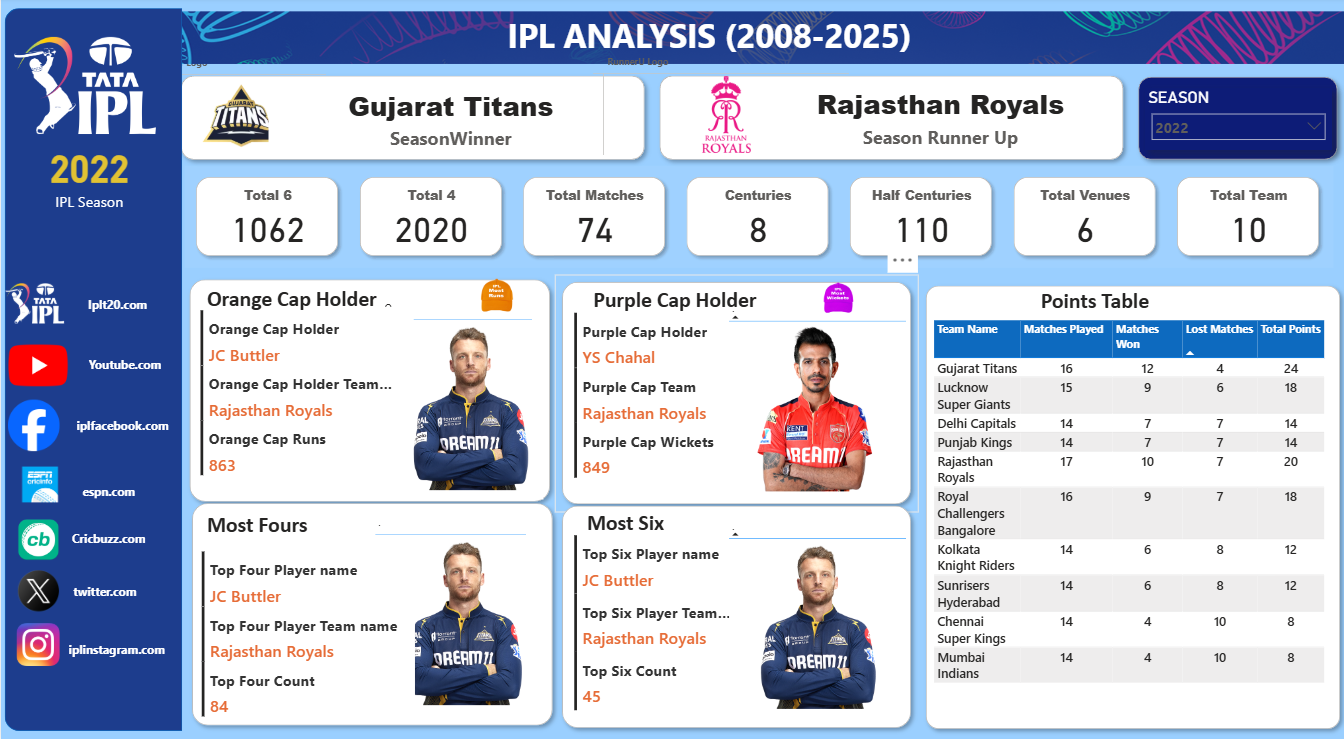

This screenshot's page, from the dashboard's own definition file:
{"tool":"powerbi","page":{"name":"Page 1","canvas":[2000,1100],"ordinal":0},"visuals":[{"type":"shape","box":[1666,107.2,315.2,143.7],"z":0},{"type":"shape","box":[1352.9,413.8,632.5,675.4],"z":1000},{"type":"shape","box":[268,405.2,553.2,349.5],"z":2000},{"type":"tableEx","fields":{"Values":["ipl_matches_data.Orange Cap Image"]},"box":[555.3,441.7,244.4,298],"z":3000},{"type":"shape","box":[255.1,105.1,705.4,145.8],"z":4000},{"type":"tableEx","fields":{"Values":["ipl_matches_data.Season winner Logo"]},"box":[167.2,83.6,325.9,167.2],"z":5000},{"type":"image","box":[233.7,15,1751.7,90.1],"z":6000},{"type":"shape","box":[6.4,17.2,261.6,1065.6],"z":7000},{"type":"textbox","box":[679.7,19.3,729,75],"z":8000},{"type":"slicer","title":"SEASON","fields":{"Values":["ipl_matches_data.season"]},"box":[1687.4,135.1,276.6,90.1],"z":9000},{"type":"card","fields":{"Values":["ipl_matches_data.SeasonWinner"]},"box":[394.5,122.2,538.2,111.5],"z":10000},{"type":"shape","box":[960.6,105.1,705.4,145.8],"z":11000},{"type":"pivotTable","fields":{"Values":["ipl_matches_data.RunnerU Logo"]},"box":[868.4,81.5,461,186.5],"z":12000},{"type":"card","fields":{"Values":["ipl_matches_data.Season Runner Up"]},"box":[1134.2,120.1,503.9,111.5],"z":13000},{"type":"cardVisual","fields":{"Data":["ipl_matches_data.Total 6","ipl_matches_data.Total 4","ipl_matches_data.Total Matches","ipl_matches_data.Centuries","ipl_matches_data.Half Centuries","ipl_matches_data.Total Venues","ipl_matches_data.Total Team"]},"box":[270.2,248.7,1693.8,150.1],"z":14000},{"type":"cardVisual","fields":{"Data":["ipl_matches_data.Orange Cap Holder","ipl_matches_data.Orange Cap Holder Team Name","ipl_matches_data.Orange Cap Runs"]},"box":[289.5,456.7,319.5,253],"z":15000},{"type":"textbox","box":[298,420.2,390.2,62.2],"z":16000},{"type":"image","box":[641.1,409.5,180.1,62.2],"z":19000},{"type":"textbox","box":[960.6,420.2,263.7,51.5],"z":20000},{"type":"shape","box":[270.2,735.4,553.2,349.5],"z":21000},{"type":"tableEx","fields":{"Values":["ipl_matches_data.Top Four Player Image"]},"box":[546.5,758.7,244.4,306.6],"z":22000},{"type":"cardVisual","fields":{"Data":["ipl_matches_data.Top Four Player name","ipl_matches_data.Top Four Player Team name","ipl_matches_data.Top Four Count"]},"box":[291.6,812.6,319.5,253],"z":23000},{"type":"shape","box":[816.9,409.5,536,349.5],"z":24000},{"type":"cardVisual","fields":{"Data":["ipl_matches_data.Purple Cap Holder","ipl_matches_data.Purple Cap Team","ipl_matches_data.Purple Cap Wickets"]},"box":[840.5,461,293.7,253],"z":25000},{"type":"textbox","box":[298,754.7,278.7,62.2],"z":26000},{"type":"tableEx","fields":{"Values":["ipl_matches_data.Purple Cap image"]},"box":[1067.8,443.8,285.2,291.6],"z":27000},{"type":"textbox","box":[868.4,422.4,366.6,62.2],"z":28000},{"type":"image","box":[1181.4,413.8,107.2,57.9],"z":29000},{"type":"shape","box":[816.9,739.7,536,349.5],"z":30000},{"type":"cardVisual","fields":{"Data":["ipl_matches_data.Top Six Player name","ipl_matches_data.Top Six Player Team name","ipl_matches_data.Top Six Count"]},"box":[840.5,789,293.7,268],"z":31000},{"type":"tableEx","fields":{"Values":["ipl_matches_data.Top Six Player Image"]},"box":[1067.8,765.4,285.2,291.6],"z":32000},{"type":"textbox","box":[859.8,750.4,366.6,62.2],"z":33000},{"type":"tableEx","fields":{"Values":["teams_data.team_name","ipl_matches_data.Matches Played","ipl_matches_data.Matches Won","ipl_matches_data.Lost Matches","ipl_matches_data.Total Points"]},"box":[1370.1,471.7,593.9,561.8],"z":34000},{"type":"textbox","box":[1528.7,424.5,435.3,62.2],"z":35000},{"type":"image","box":[19.3,840.5,72.9,70.8],"z":36000},{"type":"card","fields":{"Values":["ipl_matches_data.IPL Season"]},"box":[27.9,199.4,205.8,124.4],"z":37000},{"type":"image","box":[19.3,765.4,72.9,70.8],"z":38000},{"type":"image","box":[6.4,583.2,85.8,98.6],"z":39000},{"type":"image","box":[19.3,915.5,72.9,77.2],"z":40000},{"type":"image","box":[6.4,488.9,98.6,109.3],"z":41000},{"type":"image","box":[0,658.2,115.8,122.2],"z":42000},{"type":"actionButton","box":[90.1,780.4,137.2,36.4],"z":42001},{"type":"actionButton","box":[102.9,602.5,152.2,55.7],"z":42002},{"type":"actionButton","box":[90.1,709.7,137.2,36.4],"z":42003},{"type":"actionButton","box":[79.3,857.6,147.9,36.4],"z":42004},{"type":"actionButton","box":[90.1,930.5,160.8,62.2],"z":42005},{"type":"actionButton","box":[113.6,523.2,137.2,36.4],"z":42006},{"type":"image","box":[2.1,411.7,96.5,81.5],"z":42007},{"type":"image","box":[15,27.9,218.7,205.8],"z":42008},{"type":"actionButton","box":[102.9,435.3,137.2,36.4],"z":42009}]}

Visuals, with their boxes in screenshot pixels (x1, y1, x2, y2), scaled from the page's 2000x1100 canvas onto the 1344x739 screenshot:
shape: l=1120, t=72, r=1331, b=169
shape: l=909, t=278, r=1334, b=732
shape: l=180, t=272, r=552, b=507
tableEx - ipl_matches_data.Orange Cap Image: l=373, t=297, r=537, b=497
shape: l=171, t=71, r=645, b=169
tableEx - ipl_matches_data.Season winner Logo: l=112, t=56, r=331, b=168
image: l=157, t=10, r=1334, b=71
shape: l=4, t=12, r=180, b=727
textbox: l=457, t=13, r=947, b=63
"SEASON" slicer: l=1134, t=91, r=1320, b=151
card - ipl_matches_data.SeasonWinner: l=265, t=82, r=627, b=157
shape: l=646, t=71, r=1120, b=169
pivotTable - ipl_matches_data.RunnerU Logo: l=584, t=55, r=893, b=180
card - ipl_matches_data.Season Runner Up: l=762, t=81, r=1101, b=156
cardVisual - ipl_matches_data.Total 6 x ipl_matches_data.Total 4: l=182, t=167, r=1320, b=268
cardVisual - ipl_matches_data.Orange Cap Holder x ipl_matches_data.Orange Cap Holder Team Name: l=195, t=307, r=409, b=477
textbox: l=200, t=282, r=462, b=324
image: l=431, t=275, r=552, b=317
textbox: l=646, t=282, r=823, b=317
shape: l=182, t=494, r=553, b=729
tableEx - ipl_matches_data.Top Four Player Image: l=367, t=510, r=531, b=716
cardVisual - ipl_matches_data.Top Four Player name x ipl_matches_data.Top Four Player Team name: l=196, t=546, r=411, b=716
shape: l=549, t=275, r=909, b=510
cardVisual - ipl_matches_data.Purple Cap Holder x ipl_matches_data.Purple Cap Team: l=565, t=310, r=762, b=480
textbox: l=200, t=507, r=388, b=549
tableEx - ipl_matches_data.Purple Cap image: l=718, t=298, r=909, b=494
textbox: l=584, t=284, r=830, b=326
image: l=794, t=278, r=866, b=317
shape: l=549, t=497, r=909, b=732
cardVisual - ipl_matches_data.Top Six Player name x ipl_matches_data.Top Six Player Team name: l=565, t=530, r=762, b=710
tableEx - ipl_matches_data.Top Six Player Image: l=718, t=514, r=909, b=710
textbox: l=578, t=504, r=824, b=546
tableEx - teams_data.team_name x ipl_matches_data.Matches Played: l=921, t=317, r=1320, b=694
textbox: l=1027, t=285, r=1320, b=327
image: l=13, t=565, r=62, b=612
card - ipl_matches_data.IPL Season: l=19, t=134, r=157, b=218
image: l=13, t=514, r=62, b=562
image: l=4, t=392, r=62, b=458
image: l=13, t=615, r=62, b=667
image: l=4, t=328, r=71, b=402
image: l=0, t=442, r=78, b=524
actionButton: l=61, t=524, r=153, b=549
actionButton: l=69, t=405, r=171, b=442
actionButton: l=61, t=477, r=153, b=501
actionButton: l=53, t=576, r=153, b=601
actionButton: l=61, t=625, r=169, b=667
actionButton: l=76, t=351, r=169, b=376
image: l=1, t=277, r=66, b=331
image: l=10, t=19, r=157, b=157
actionButton: l=69, t=292, r=161, b=317
